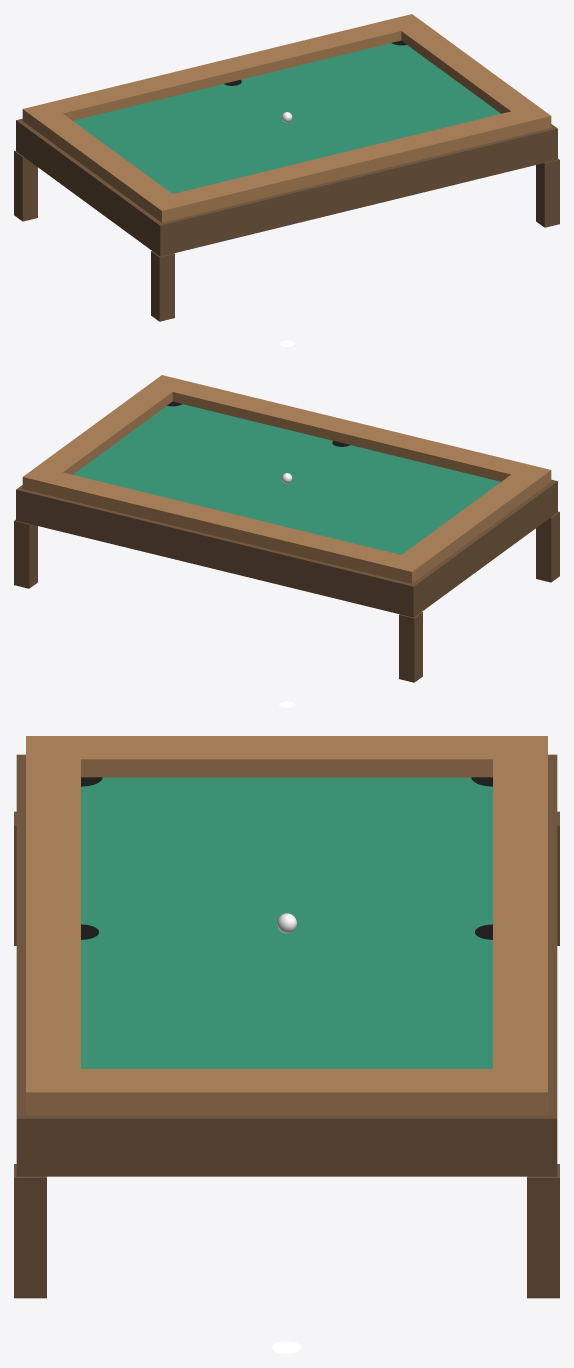
Rendered from billard.glb.
The picture shows the model from 3 angles, top to bottom: view 1: azimuth 30°, elevation 25°; view 2: azimuth 150°, elevation 25°; view 3: azimuth 270°, elevation 25°; orthographic projection. The views are drawn at different scales.
Visible parts, largest first — view 1: felt, rails, base, legs; view 2: felt, rails, base, legs; view 3: felt, rails, base, legs.
Boxes of the visible parts, x1,y1,x2,y2 form: felt: (73, 43, 500, 193); rails: (22, 14, 551, 222); base: (16, 118, 557, 256); legs: (14, 150, 559, 321); felt: (73, 404, 500, 554); rails: (22, 375, 551, 583); base: (16, 479, 557, 617); legs: (14, 511, 559, 682); felt: (81, 777, 492, 1068); rails: (26, 736, 547, 1114); base: (16, 754, 557, 1176); legs: (14, 811, 559, 1298).
Size of the model in its own units: 9.46 by 5.25 by 5.96.
